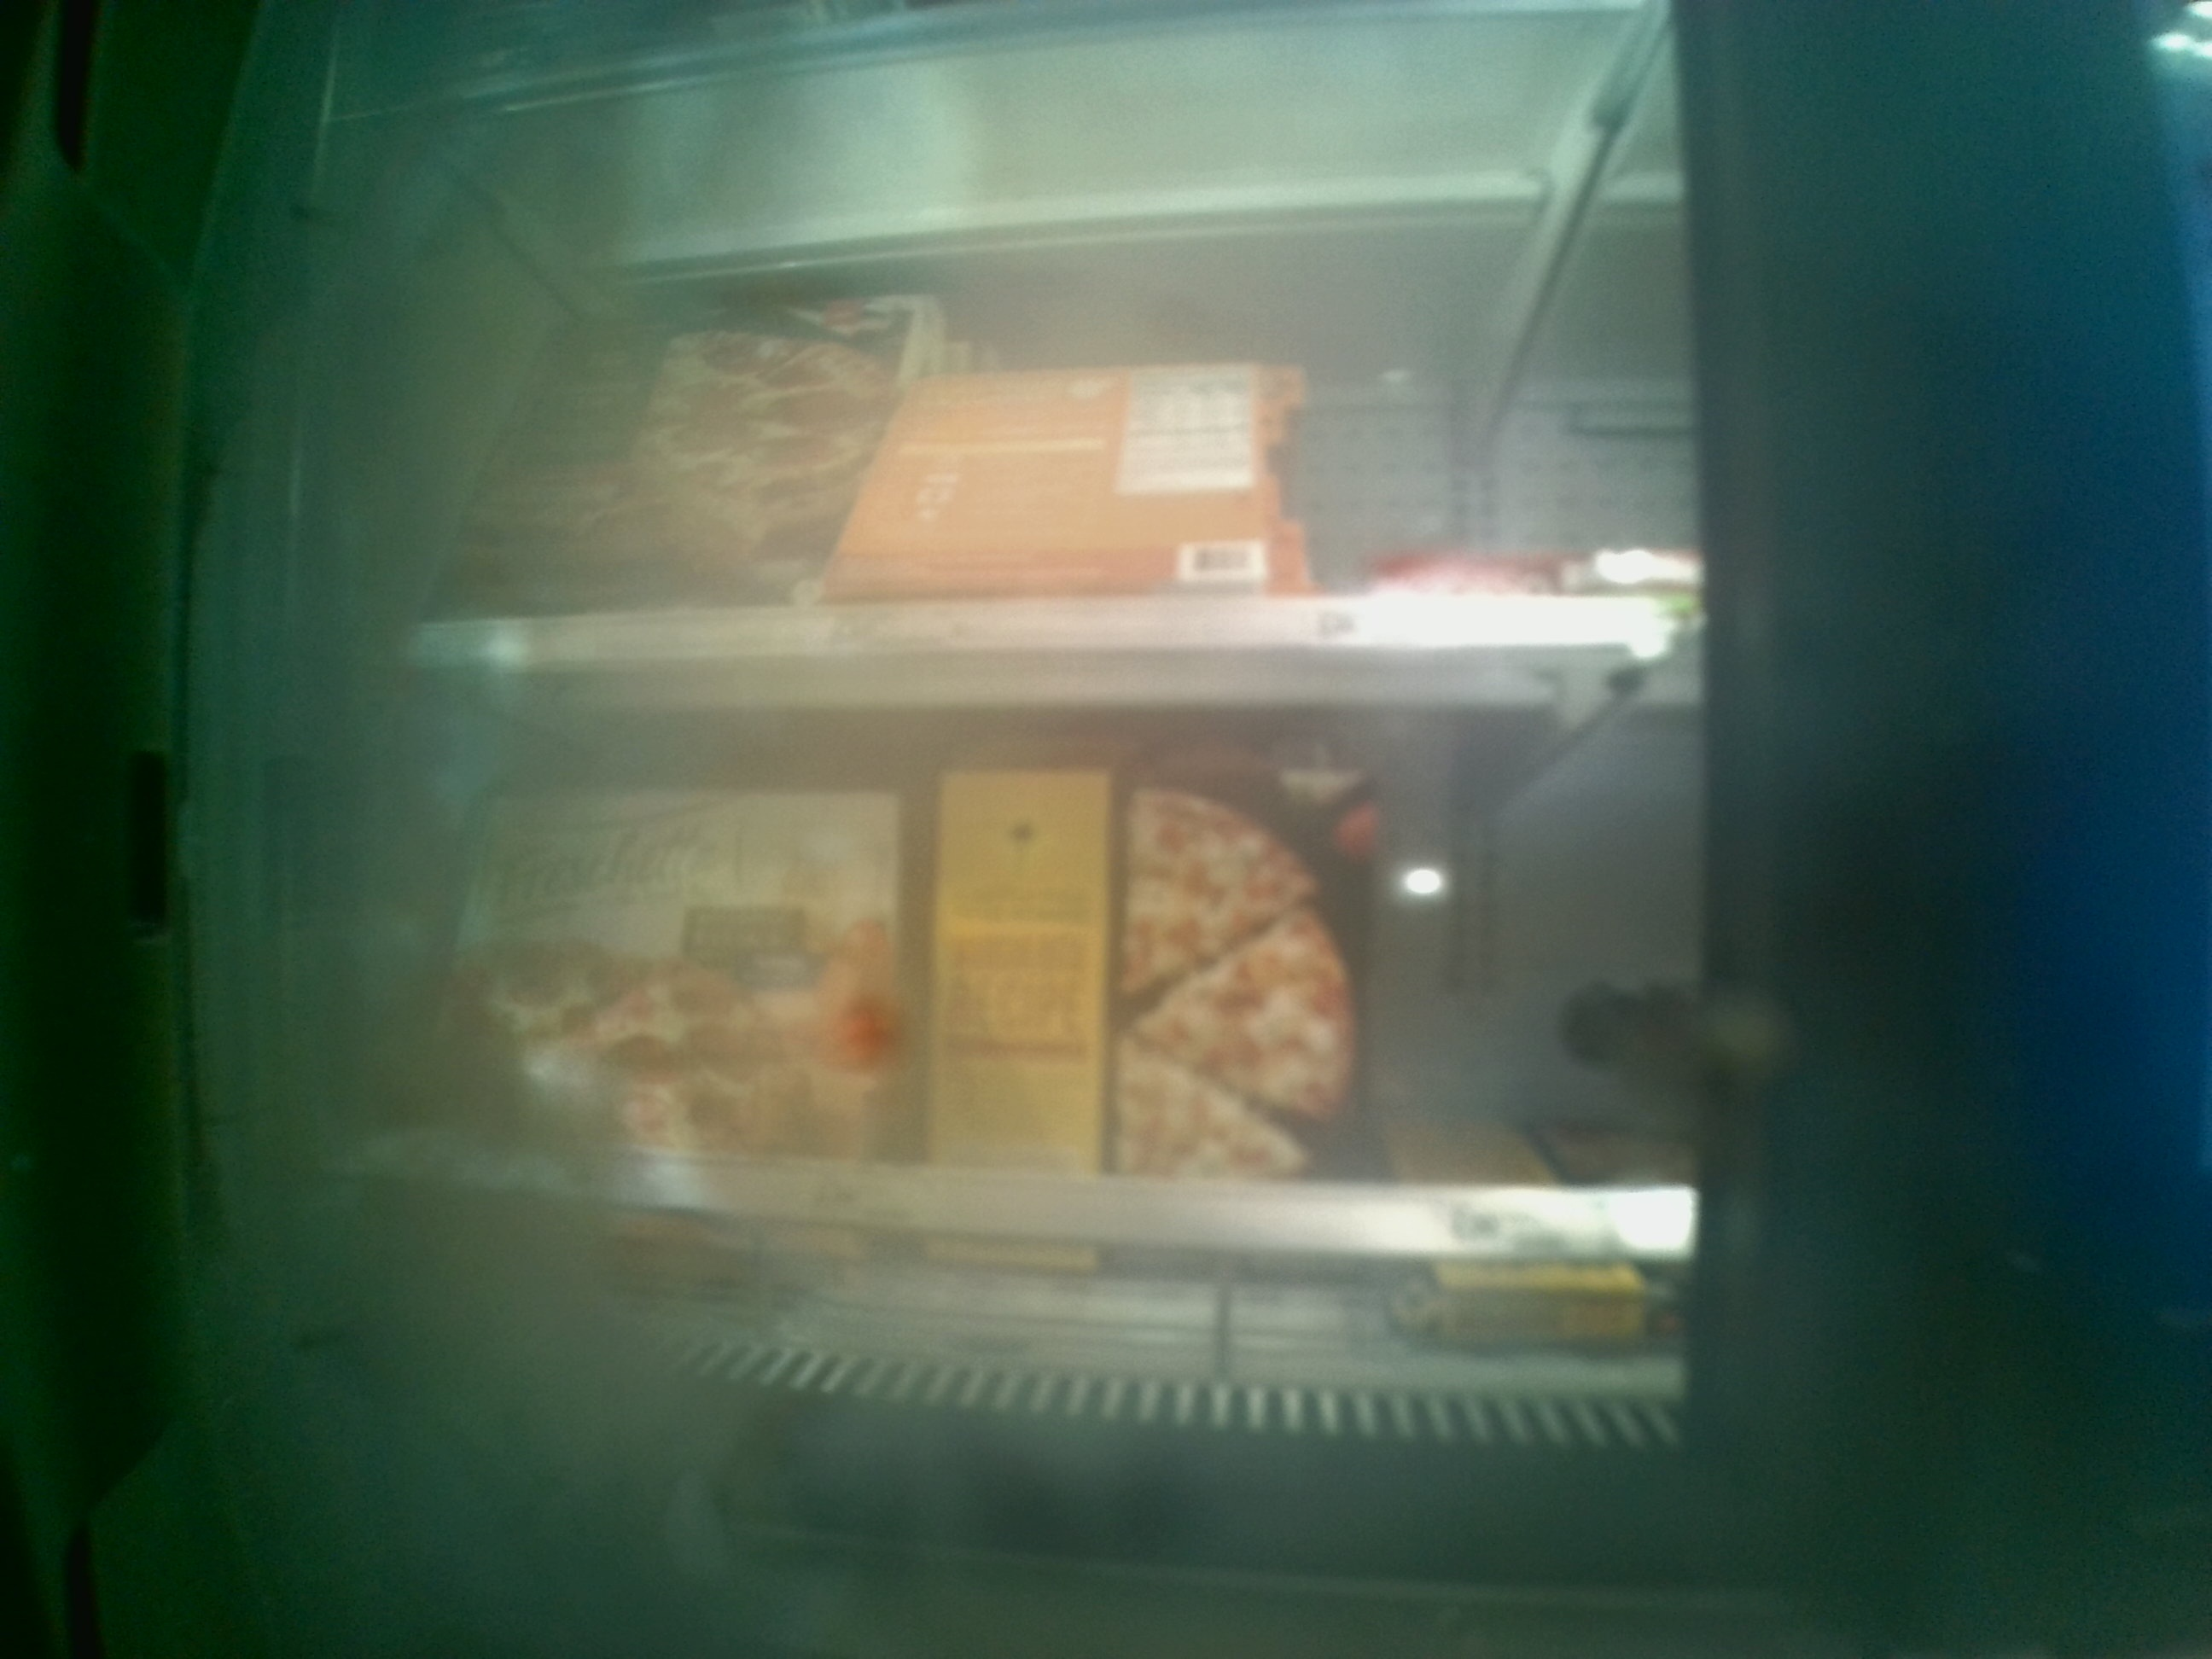shelf: (362, 660, 1700, 1312)
